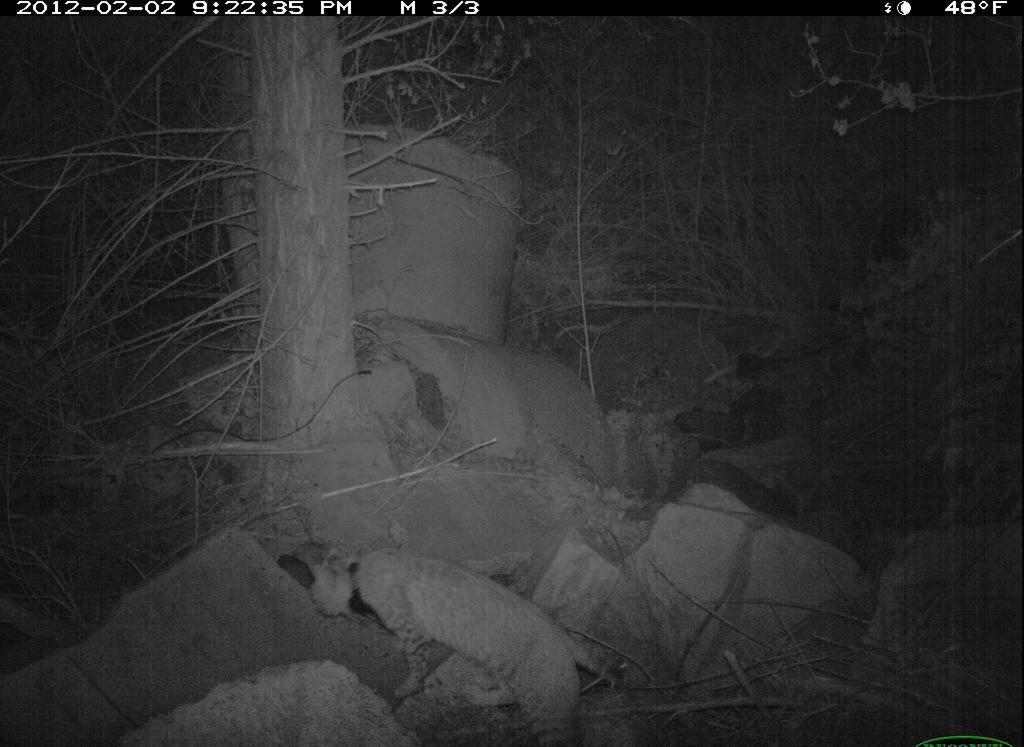bobcat: (303, 543, 628, 747)
